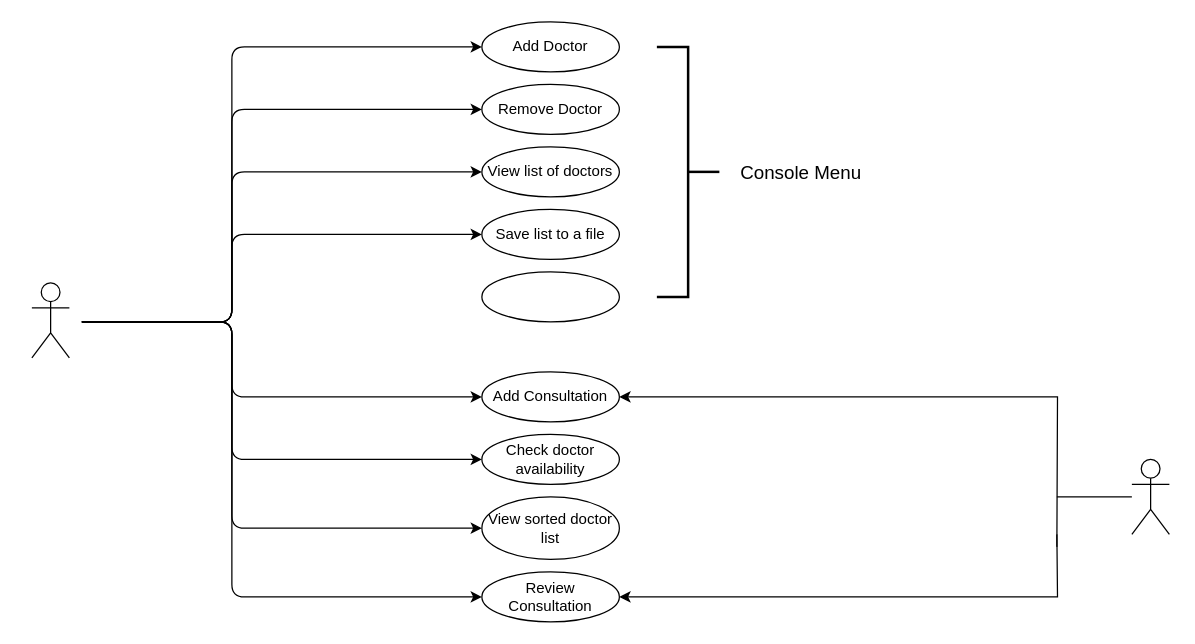
This 1195x644 diagram has some shape labels left out. Each missing label, with the box of its shape:
Load list from file: (481, 271, 619, 322)
Manager: (31, 282, 69, 358)
Patient: (1131, 458, 1169, 534)
